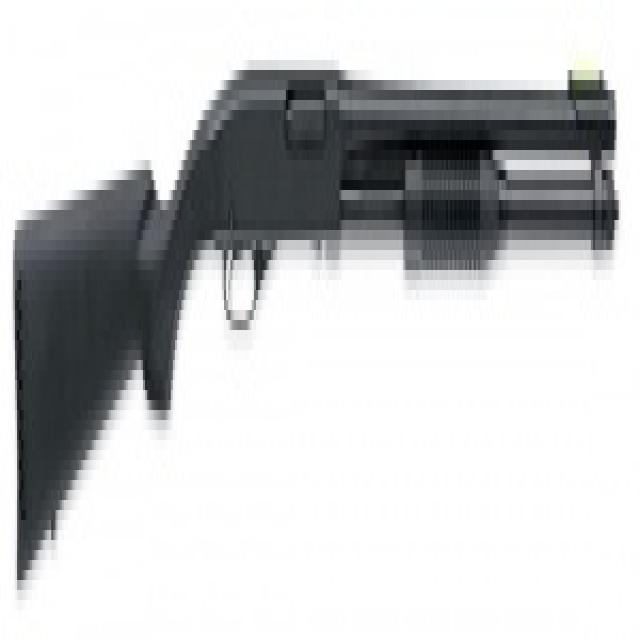rifle: (3, 29, 625, 613)
